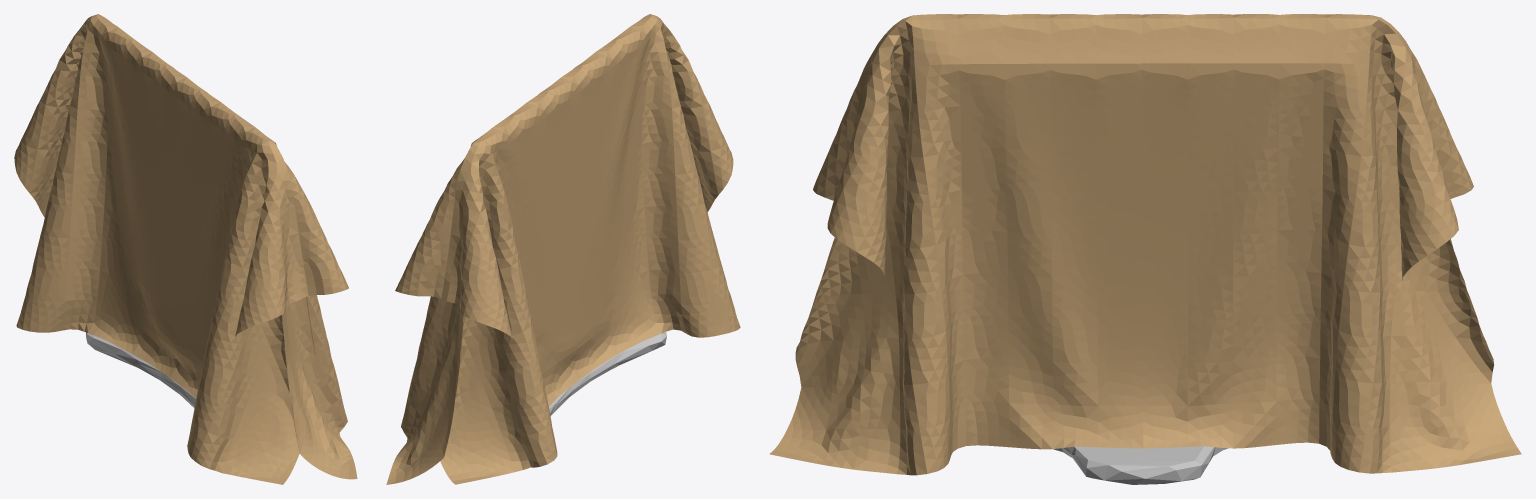
The model's file is level_2.glb.
3 renders of one model, left to right at view 1: azimuth 30°, elevation 25°; view 2: azimuth 150°, elevation 25°; view 3: azimuth 270°, elevation 25°, orthographic. The views are drawn at different scales.
Visible parts, largest first — view 1: world, object.obj; view 2: world, object.obj; view 3: world, object.obj.
Boxes of the visible parts, x1,y1,x2,y2 form: world: [14, 14, 357, 484]; object.obj: [86, 332, 196, 407]; world: [386, 14, 740, 484]; object.obj: [549, 331, 666, 415]; world: [769, 14, 1521, 475]; object.obj: [1053, 446, 1227, 484].
Bounding box in the file's own units: 0.166 × 0.2915 × 0.4788.
